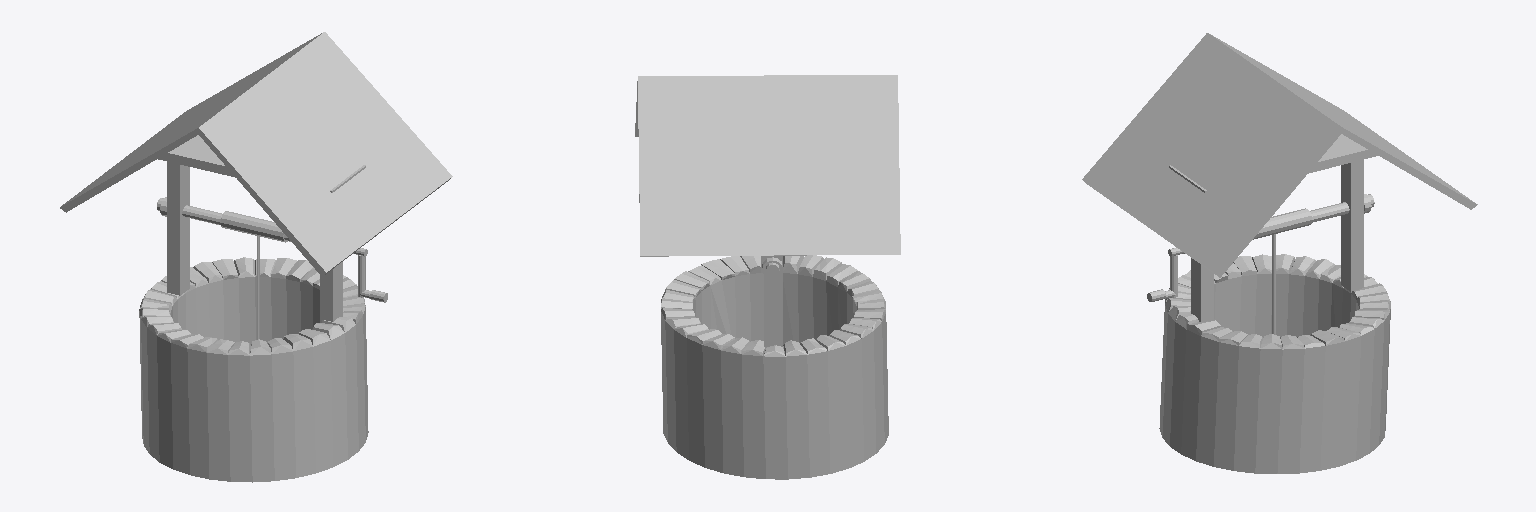
Rendered from well.obj.
3 renders of one model, left to right at view 1: azimuth 30°, elevation 25°; view 2: azimuth 150°, elevation 25°; view 3: azimuth 270°, elevation 25°, orthographic.
Visible parts, largest first — view 1: Model_3; view 2: Model_3; view 3: Model_3.
Part boxes in pixels (left/top/right/bottom): Model_3: left=60, top=32, right=452, bottom=482; Model_3: left=635, top=75, right=900, bottom=479; Model_3: left=1082, top=33, right=1477, bottom=473.
Bounding box in the file's own units: 4.15 × 4.27 × 4.31.